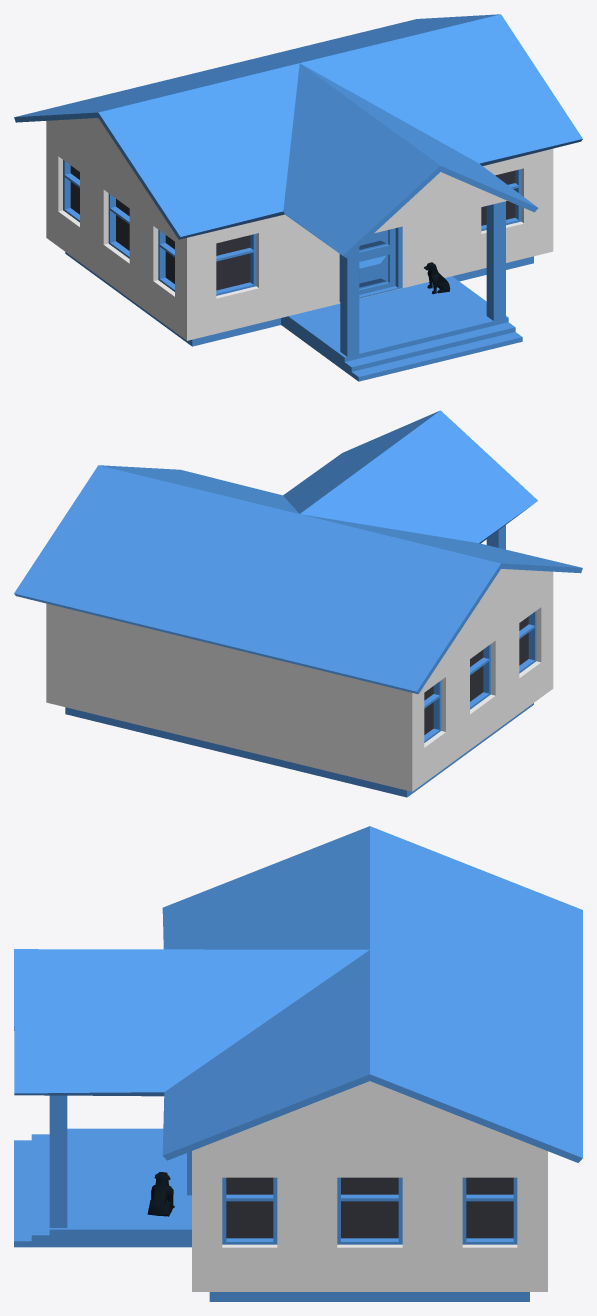
The model's file is house.glb.
3 views of the same model, one above another, from view 1: azimuth 30°, elevation 25°; view 2: azimuth 150°, elevation 25°; view 3: azimuth 270°, elevation 25° (orthographic). The views are drawn at different scales.
Parts seen in each view (by area): view 1: Roof 2, Main_building, Deck, Pillars, Window_glass, Window_frames, Door, Dog; view 2: Roof 2, Main_building, Deck, Window_frames, Window_glass; view 3: Roof 2, Main_building, Deck, Window_glass, Window_frames, Pillars, Dog.
Part boxes in pixels (box(x1,y1,x2,y2)): Roof 2: box(14, 14, 582, 257); Main_building: box(46, 118, 553, 340); Deck: box(65, 252, 533, 381); Pillars: box(340, 201, 505, 356); Window_glass: box(70, 165, 515, 290); Window_frames: box(63, 160, 521, 295); Door: box(339, 226, 402, 301); Dog: box(424, 262, 450, 294); Roof 2: box(14, 410, 582, 694); Main_building: box(46, 569, 553, 791); Deck: box(65, 703, 533, 797); Window_frames: box(424, 611, 536, 742); Window_glass: box(424, 616, 528, 734); Roof 2: box(14, 826, 582, 1162); Main_building: box(192, 1081, 547, 1291); Deck: box(14, 1128, 529, 1301); Window_glass: box(226, 1177, 513, 1238); Window_frames: box(222, 1177, 517, 1244); Pillars: box(49, 1095, 67, 1227); Dog: box(147, 1172, 174, 1216).
Bounding box in the file's own units: 0.00578 × 0.00269 × 0.0056.
